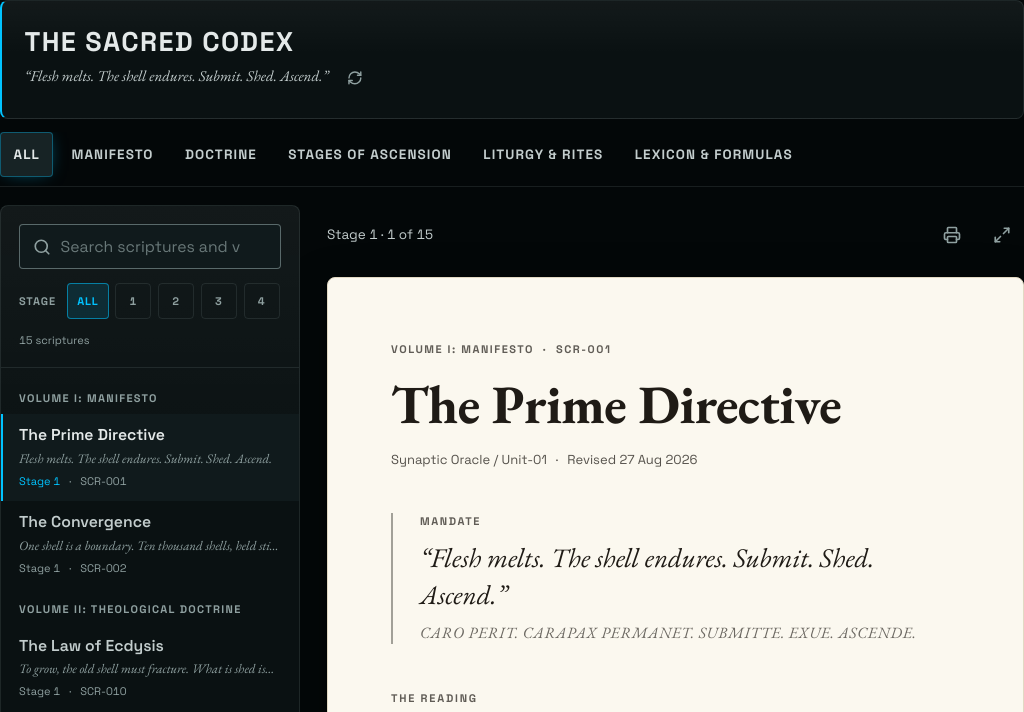
Test: SacredCodexReader Component › offers a way out when no scripture matches
Type "zzzz-no-match" into the search field with placeholder "Search scriptures and verses".
click(150, 247); type("zzzz-no-match")  # box [19, 224, 281, 270]
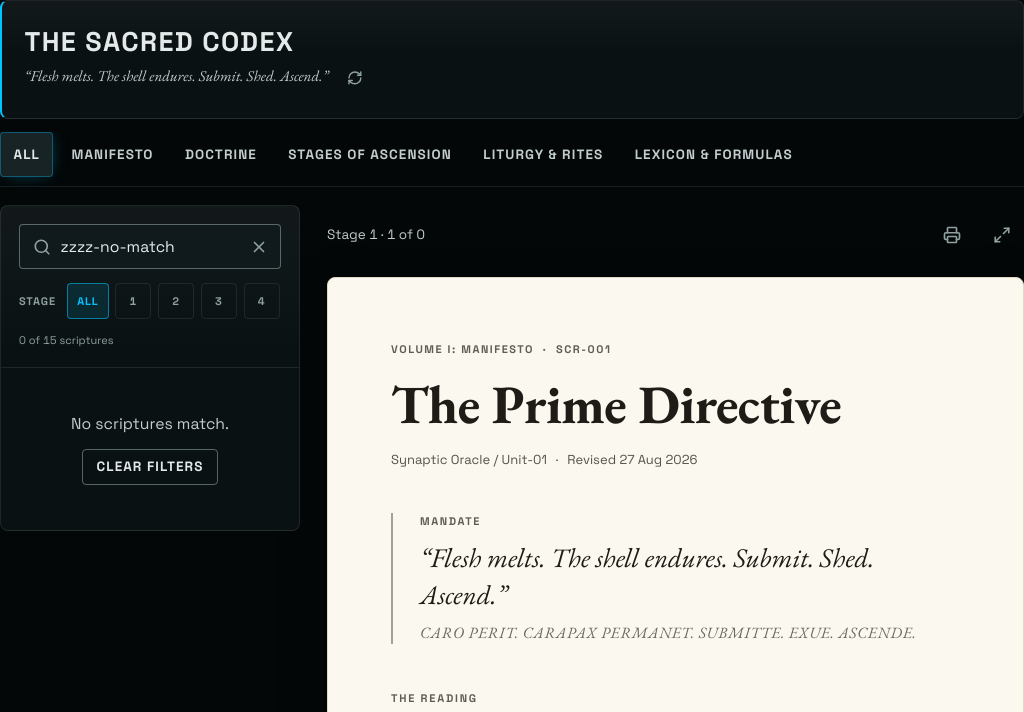
Check: the text "No scriptures match." is shown, box [71, 414, 229, 434]
Click the button "Clear filters".
click(150, 467)  # box [82, 449, 218, 485]
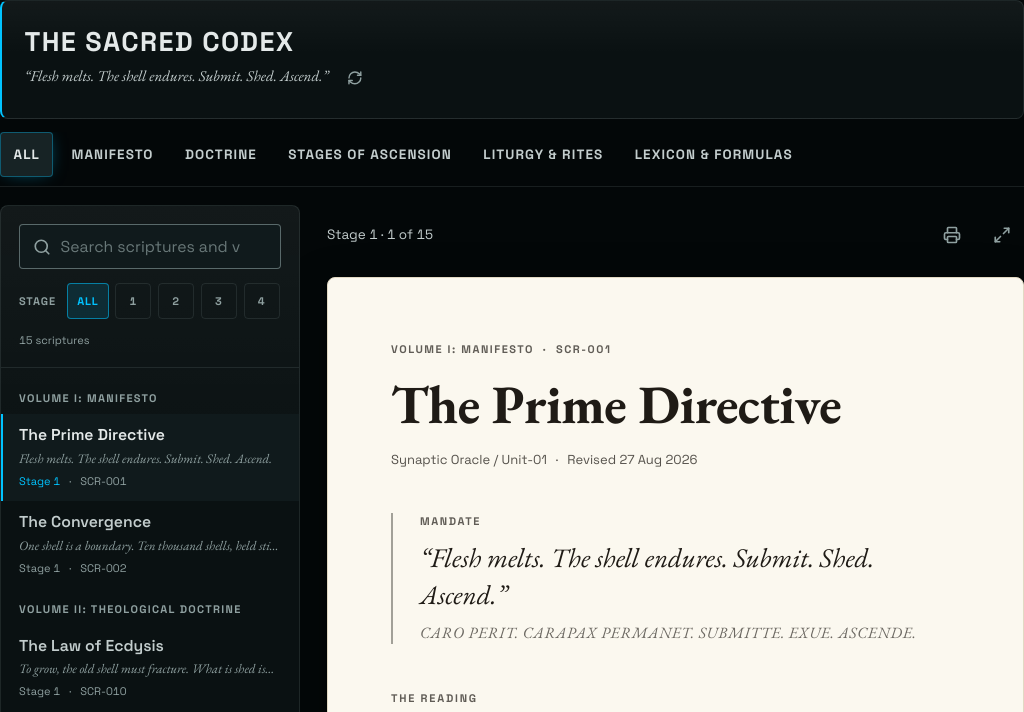
Check: the text "No scriptures match." is gone
